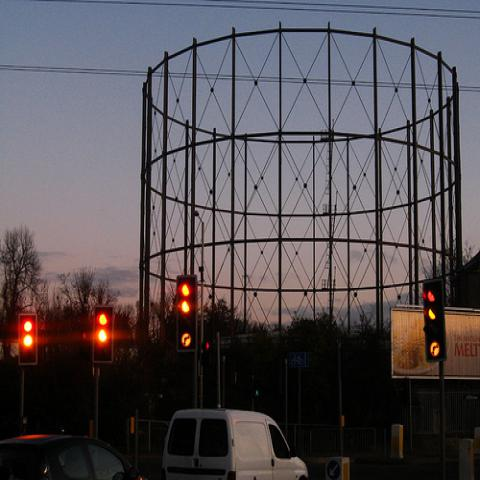car: (160, 406, 309, 479), (0, 433, 130, 475)
